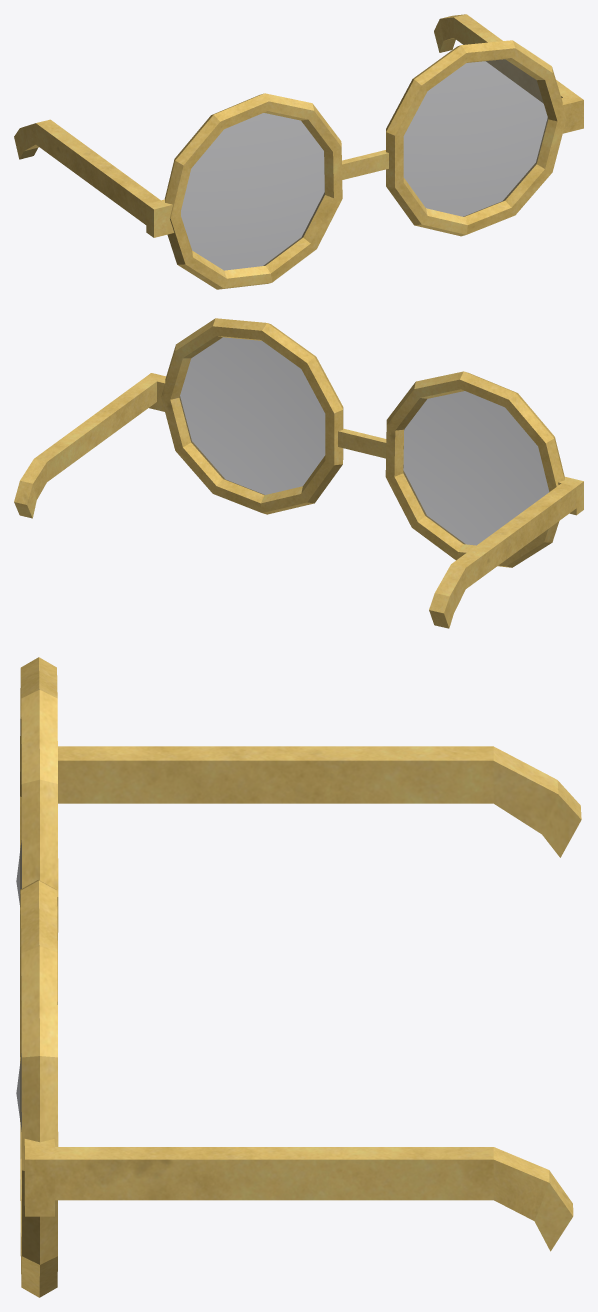
File: Glasses.glb
The picture shows the model from 3 angles, top to bottom: view 1: azimuth 30°, elevation 25°; view 2: azimuth 150°, elevation 25°; view 3: azimuth 270°, elevation 25°; orthographic projection. The views are drawn at different scales.
Visible parts, largest first — view 1: Glasses; view 2: Glasses; view 3: Glasses.
Part boxes in pixels (x1,y1,x2,y2): Glasses: (14,14,583,289); Glasses: (14,318,583,628); Glasses: (16,657,581,1297).
Bounding box in the file's own units: 1.2 × 0.5107 × 0.6827.
1 material, 1 textured.
